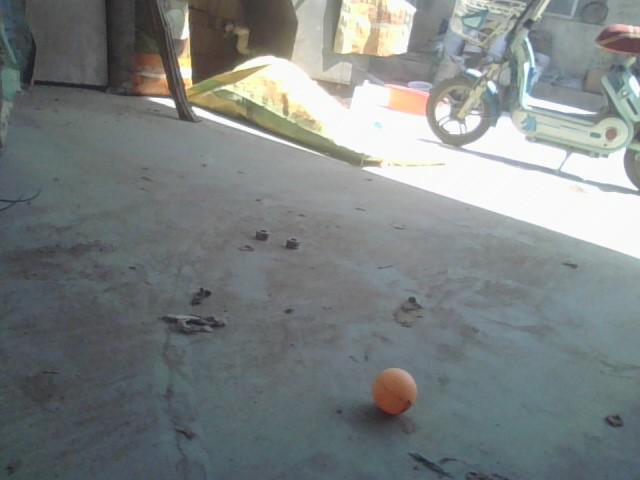ball: (374, 367, 419, 415)
